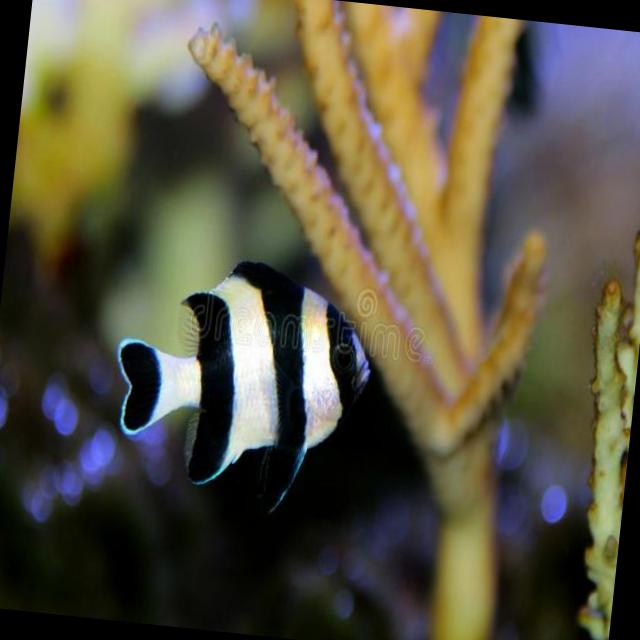Three_striped DasmselFish: (106, 247, 381, 522)
